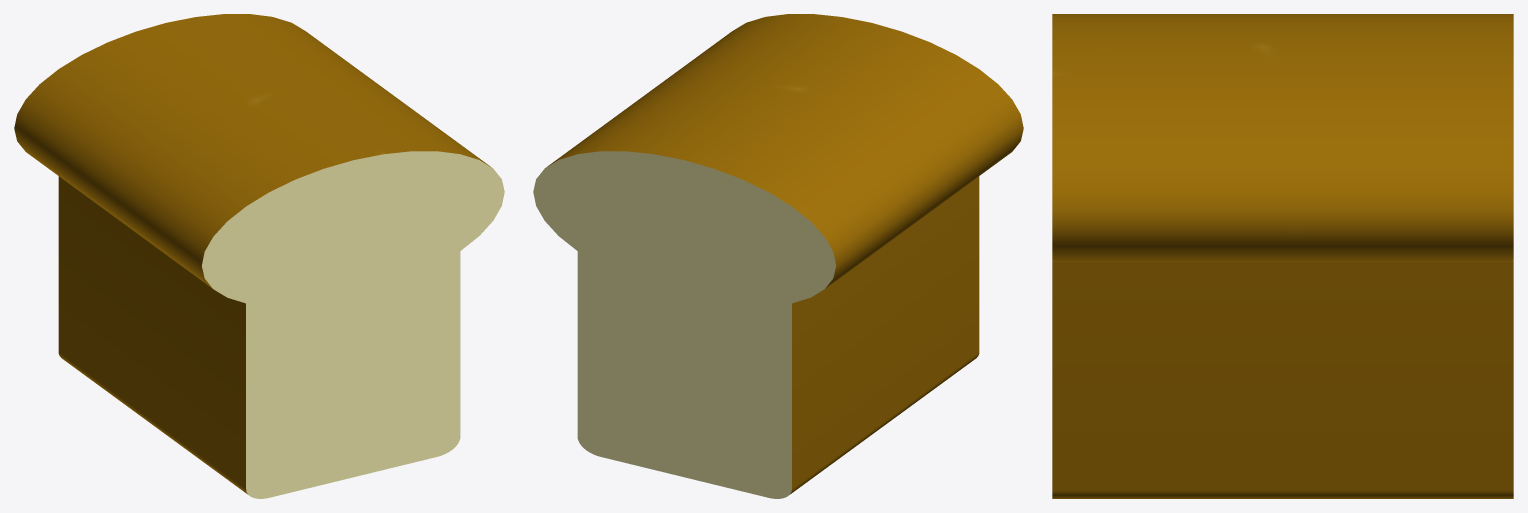
Rendered from bread.fbx.
3 views of the same model, side by side, from view 1: azimuth 30°, elevation 25°; view 2: azimuth 150°, elevation 25°; view 3: azimuth 270°, elevation 25° (orthographic). The views are drawn at different scales.
Parts seen in each view (by area): view 1: Cylinder; view 2: Cylinder; view 3: Cylinder.
Boxes of the visible parts, box(x1,y1,x2,y2) form: Cylinder: box(14, 14, 504, 498); Cylinder: box(533, 14, 1023, 498); Cylinder: box(1052, 14, 1513, 498).
Bounding box in the file's own units: 187 × 187 × 200.
1 material, 1 textured.
